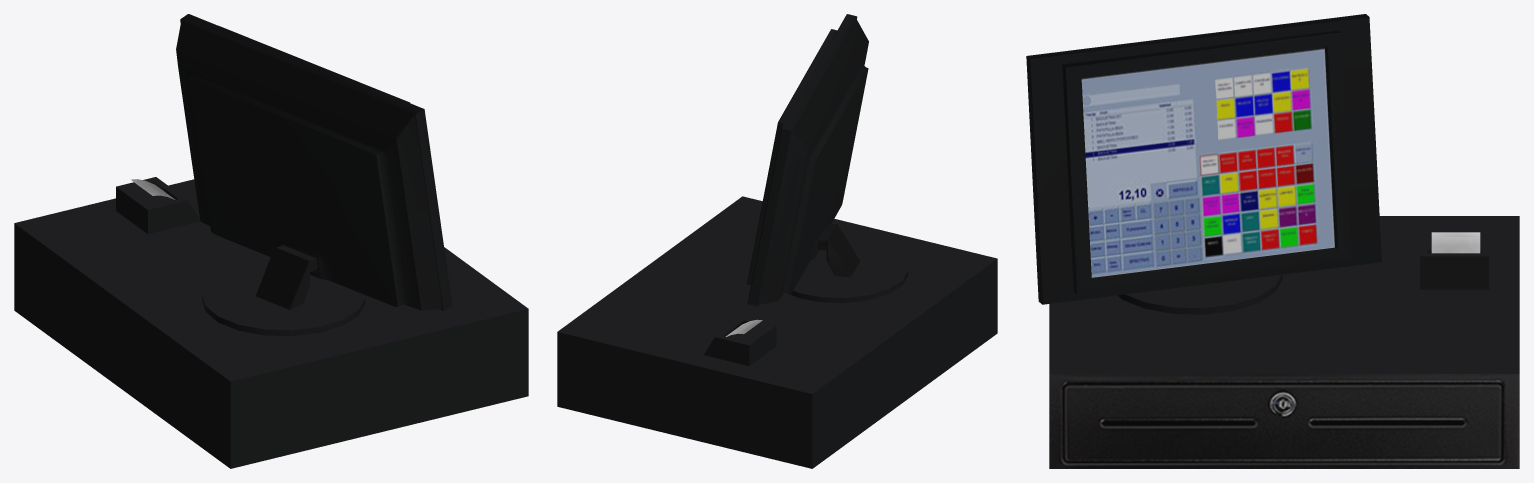
The model's file is Cash register.FBX.
3 views of the same model, side by side, from view 1: azimuth 30°, elevation 25°; view 2: azimuth 150°, elevation 25°; view 3: azimuth 270°, elevation 25° (orthographic). The views are drawn at different scales.
Visible parts, largest first — view 1: cash register; view 2: cash register; view 3: cash register.
Part boxes in pixels (x1,y1,x2,y2): cash register: [14, 14, 528, 468]; cash register: [557, 14, 997, 468]; cash register: [1026, 14, 1519, 468].
Bounding box in the file's own units: 44.46 × 45.84 × 58.63.
Materials: 1 (1 with a texture image).
